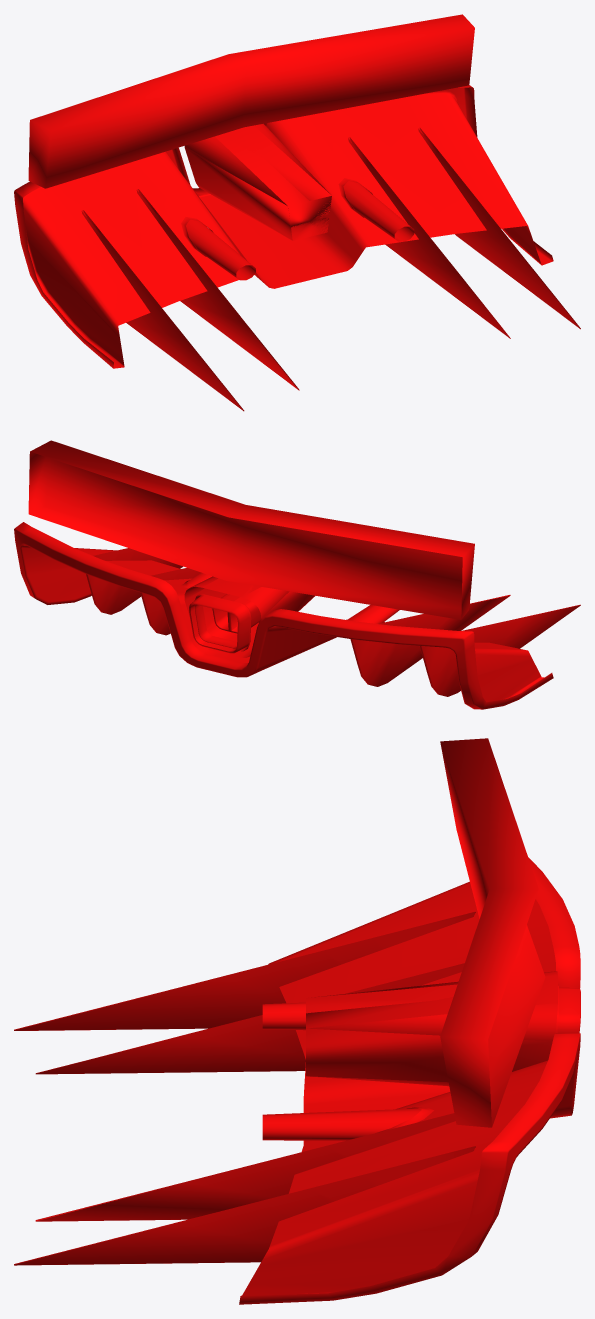
The model's file is Veyron_BB01_Trim.fbx.
The picture shows the model from 3 angles, top to bottom: view 1: azimuth 30°, elevation 25°; view 2: azimuth 150°, elevation 25°; view 3: azimuth 270°, elevation 25°; orthographic projection. The views are drawn at different scales.
Visible parts, largest first — view 1: Veyron_BB01_Trim; view 2: Veyron_BB01_Trim; view 3: Veyron_BB01_Trim.
Part boxes in pixels (x1,y1,x2,y2): Veyron_BB01_Trim: (14, 14, 580, 411); Veyron_BB01_Trim: (14, 440, 580, 709); Veyron_BB01_Trim: (14, 738, 580, 1304).
Size of the model in its own units: 131 by 51.56 by 100.
